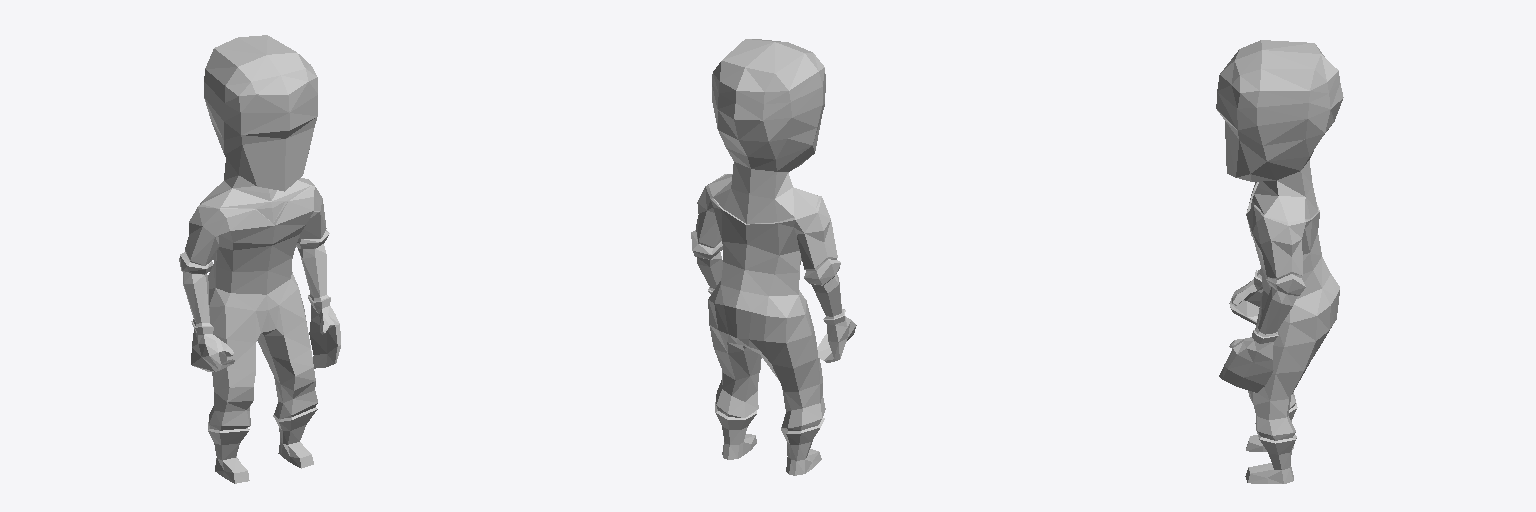
Rendered from RogueBody.obj.
3 views of the same model, side by side, from view 1: azimuth 30°, elevation 25°; view 2: azimuth 150°, elevation 25°; view 3: azimuth 270°, elevation 25° (orthographic).
Parts seen in each view (by area): view 1: RogueBody; view 2: RogueBody; view 3: RogueBody.
Boxes of the visible parts, box(x1,y1,x2,y2) form: RogueBody: box(179, 35, 340, 483); RogueBody: box(691, 39, 856, 475); RogueBody: box(1216, 40, 1343, 483).
Bounding box in the file's own units: 1.05 × 2.91 × 0.8103.